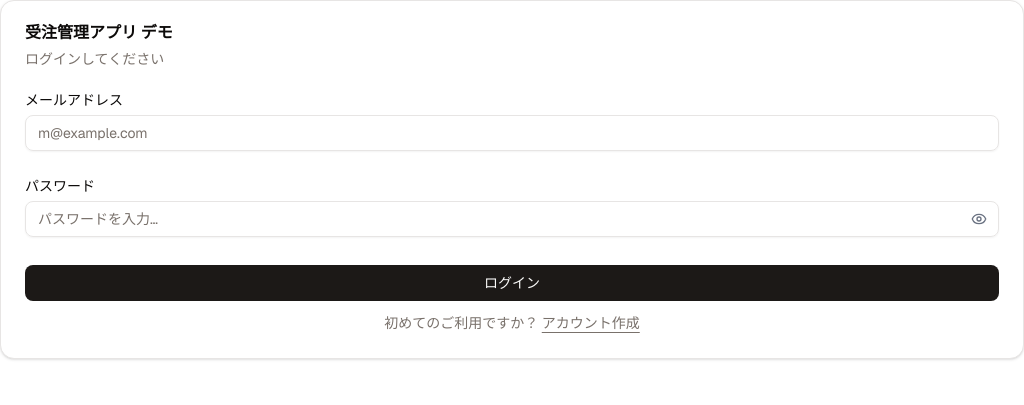
Scenario: LoginForm コンポーネント › バリデーション › パスワードが空のままサブミットすると「パスワードは必須です」が表示されること
The image size is (1024, 405).
In the field with placeholder "m@example.com": {"x": 512, "y": 133} [25,115,999,151], type "test@example.com"
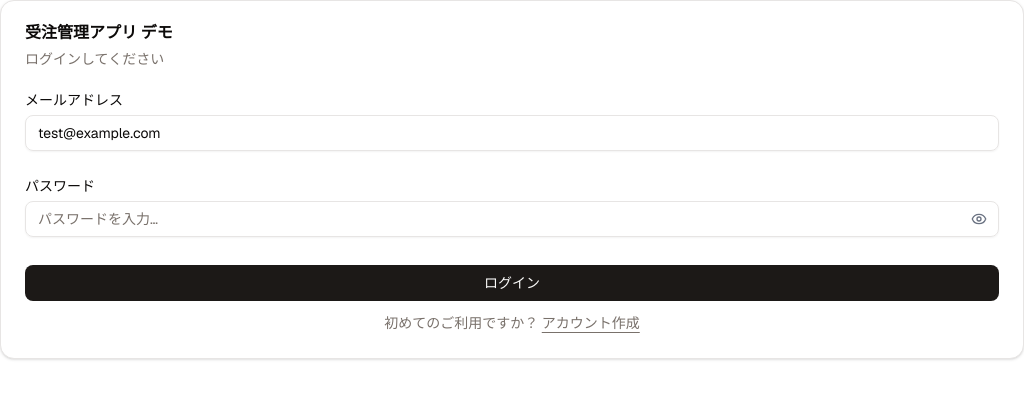
Submit the form "ログイン", box [25,93,999,334]
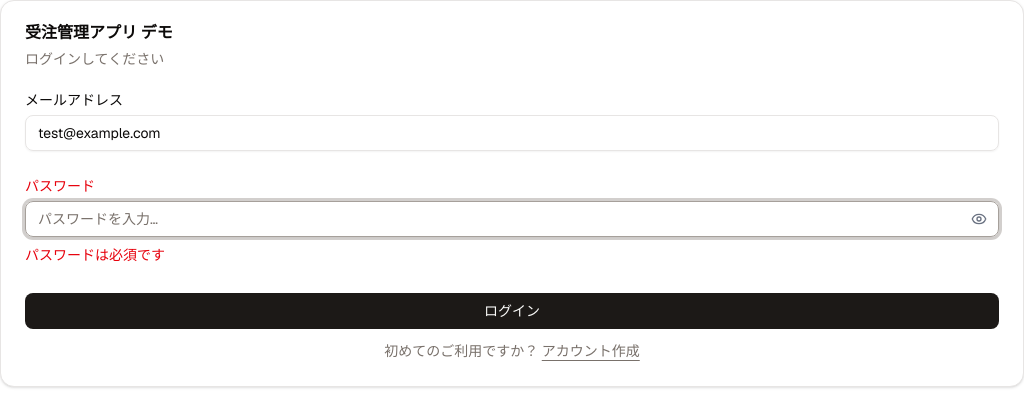
Check: the text "パスワードは必須です" is shown, box [25,246,165,264]
